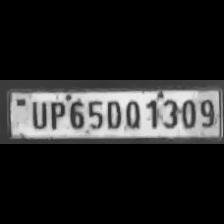0: (178, 97, 198, 129)
1: (143, 98, 161, 130)
3: (160, 96, 178, 130)
5: (86, 98, 104, 130)
6: (66, 98, 86, 130)
9: (196, 97, 216, 129)
D: (103, 98, 121, 130)
P: (46, 98, 66, 130)
Q: (122, 98, 142, 130)
U: (28, 98, 48, 130)
